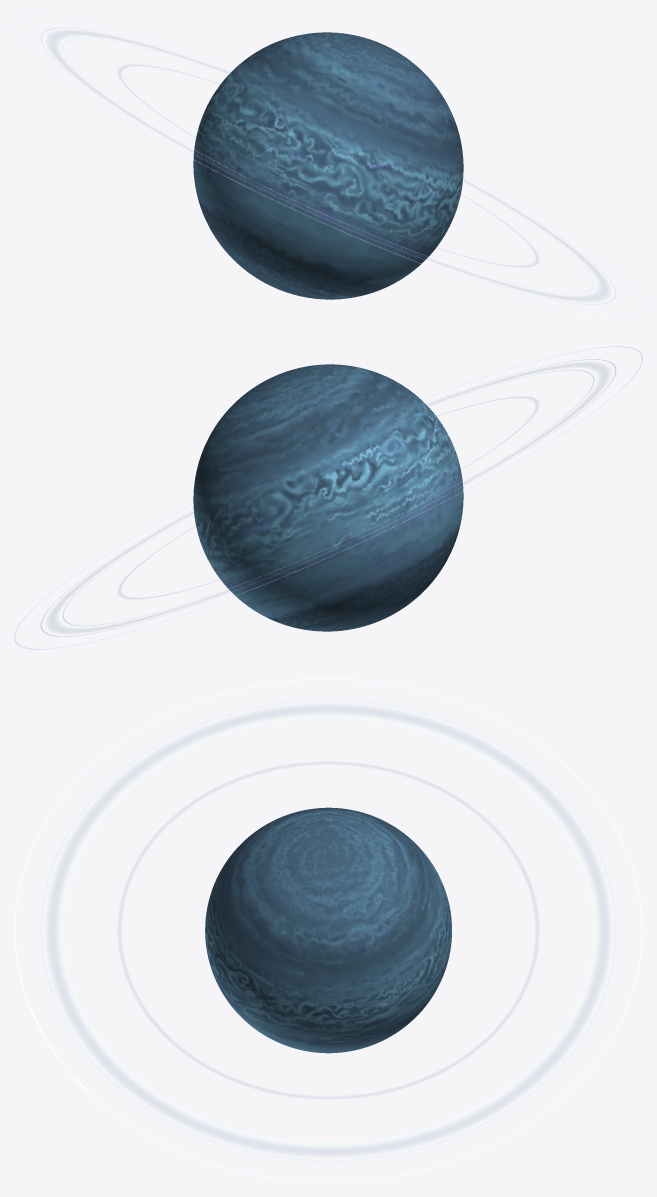
Rendered from neptune.glb.
3 views of the same model, one above another, from view 1: azimuth 30°, elevation 25°; view 2: azimuth 150°, elevation 25°; view 3: azimuth 270°, elevation 25° (orthographic). The views are drawn at different scales.
Visible parts, largest first — view 1: Neptune • oblate cloud deck.002, Lassell ring.002, Adams ring.002, Le Verrier ring.002, Arago ring.002; view 2: Neptune • oblate cloud deck.002, Lassell ring.002, Adams ring.002, Le Verrier ring.002, Arago ring.002; view 3: Neptune • oblate cloud deck.002, Lassell ring.002, Adams ring.002, Le Verrier ring.002, Arago ring.002, Galle ring.002.
Part boxes in pixels (x1,y1,x2,y2): Neptune • oblate cloud deck.002: [193, 32, 463, 299]; Lassell ring.002: [50, 32, 606, 299]; Adams ring.002: [14, 14, 642, 317]; Le Verrier ring.002: [62, 37, 594, 294]; Arago ring.002: [40, 27, 616, 304]; Neptune • oblate cloud deck.002: [193, 364, 463, 631]; Lassell ring.002: [50, 364, 606, 631]; Adams ring.002: [14, 346, 642, 649]; Le Verrier ring.002: [62, 369, 594, 626]; Arago ring.002: [40, 359, 616, 636]; Neptune • oblate cloud deck.002: [205, 807, 451, 1053]; Lassell ring.002: [49, 707, 608, 1153]; Adams ring.002: [14, 678, 642, 1182]; Le Verrier ring.002: [62, 717, 594, 1143]; Arago ring.002: [41, 700, 616, 1160]; Galle ring.002: [118, 762, 538, 1098].
Size of the model in its own units: 4.48 by 2.41 by 5.09.
Materials: 11 (3 with a texture image).
